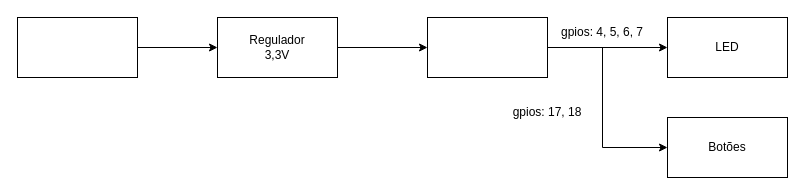
This 805x195 diagram has some shape labels left out. The shapes that lost their labels are listed below. From the top down, each one's box as (x1, y1, x2, y2) in pixels, then its label:
(16, 16, 138, 78): Alimentação 5V
(426, 16, 548, 78): ESP32-S3
